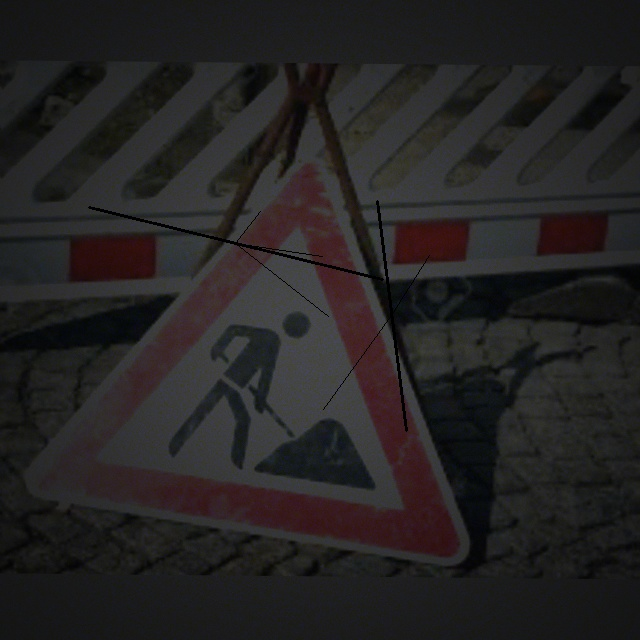Men_at_Work: (81, 171, 476, 565)
